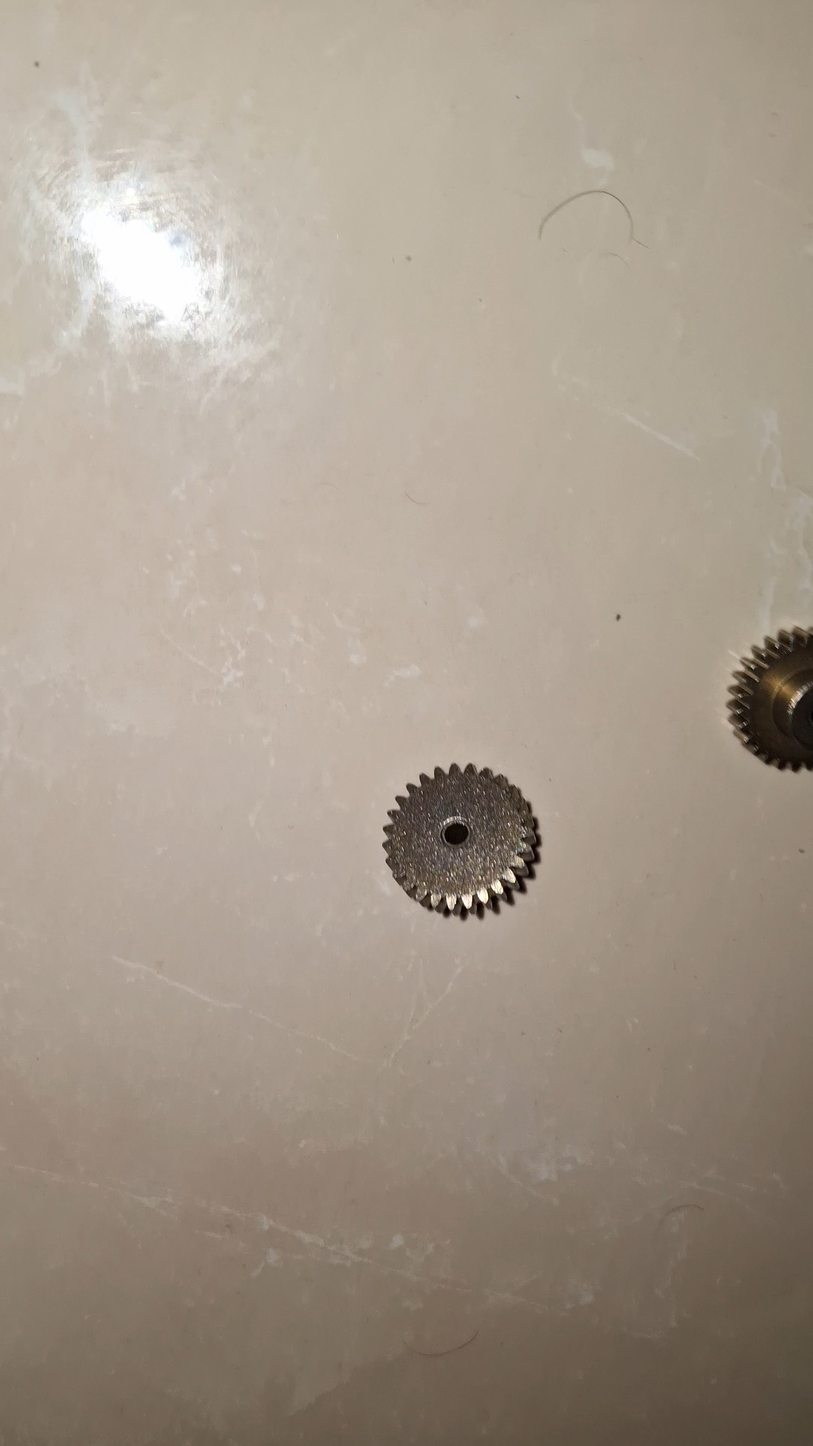spur gear: (384, 764, 537, 911), (729, 628, 813, 771)
